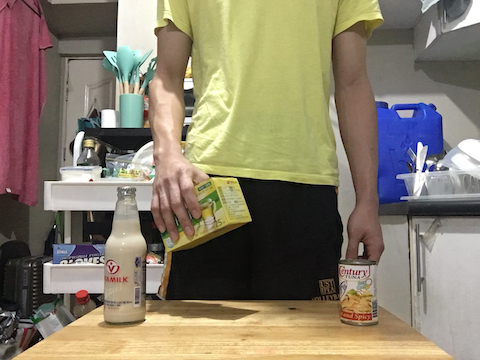bottle: (100, 183, 153, 328)
box: (156, 171, 256, 255)
can: (335, 258, 380, 329)
grab: (149, 167, 201, 241)
